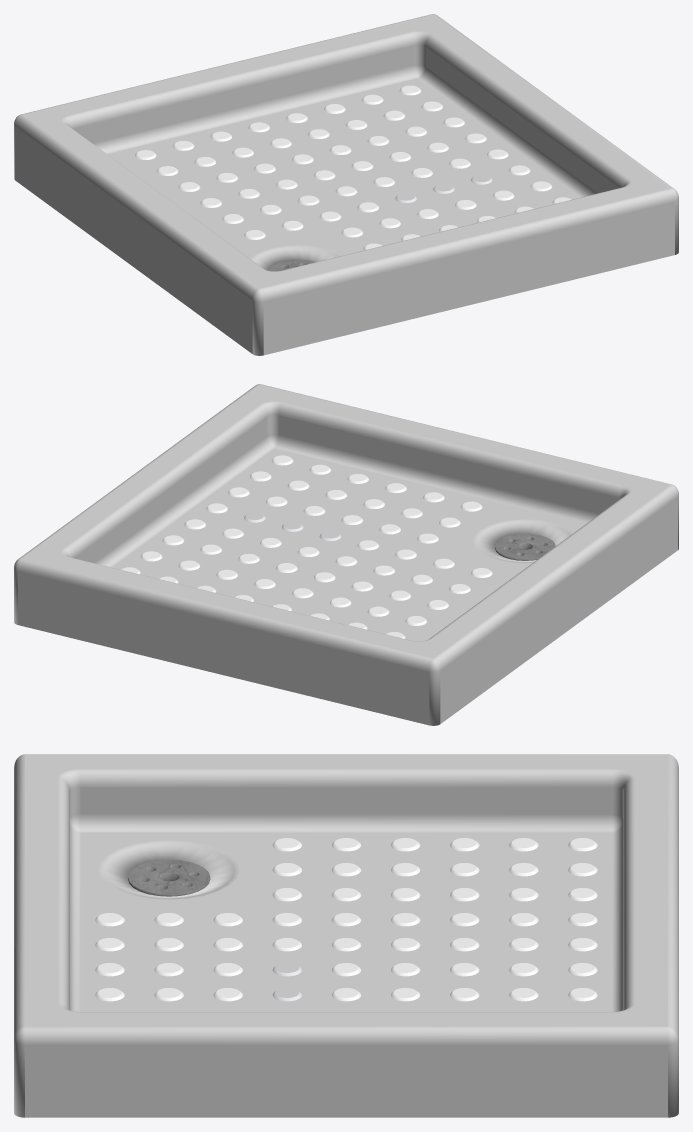
The model's file is Dush Korito 3.fbx.
3 renders of one model, top to bottom at view 1: azimuth 30°, elevation 25°; view 2: azimuth 150°, elevation 25°; view 3: azimuth 270°, elevation 25°, orthographic. The views are drawn at different scales.
Visible parts, largest first — view 1: G-No_Name_065, G-No_Name_098, G-No_Name_066, G-No_Name_080, G-No_Name_073, G-No_Name_087, G-No_Name_094, G-No_Name_105; view 2: G-No_Name_065, G-No_Name_065.001, G-No_Name_116, G-No_Name_073, G-No_Name_087, G-No_Name_105, G-No_Name_112, G-No_Name_066, G-No_Name_094; view 3: G-No_Name_065, G-No_Name_065.001, G-No_Name_080, G-No_Name_112, G-No_Name_098, G-No_Name_087, G-No_Name_094, G-No_Name_116, G-No_Name_066, G-No_Name_105, G-No_Name_073.
Part boxes in pixels (x1,y1,x2,y2): G-No_Name_065: [14, 14, 678, 355]; G-No_Name_098: [308, 110, 405, 138]; G-No_Name_066: [351, 142, 448, 170]; G-No_Name_080: [286, 94, 383, 123]; G-No_Name_073: [373, 158, 470, 186]; G-No_Name_087: [329, 126, 426, 154]; G-No_Name_094: [417, 190, 514, 218]; G-No_Name_105: [395, 174, 492, 202]; G-No_Name_065: [14, 384, 678, 725]; G-No_Name_065.001: [495, 533, 555, 560]; G-No_Name_116: [287, 480, 384, 508]; G-No_Name_073: [222, 528, 319, 556]; G-No_Name_087: [178, 560, 275, 588]; G-No_Name_105: [244, 512, 341, 540]; G-No_Name_112: [309, 464, 406, 493]; G-No_Name_066: [200, 544, 297, 572]; G-No_Name_094: [266, 496, 363, 524]; G-No_Name_065: [14, 754, 678, 1117]; G-No_Name_065.001: [128, 859, 210, 896]; G-No_Name_080: [568, 963, 597, 1001]; G-No_Name_112: [95, 963, 124, 1001]; G-No_Name_098: [509, 963, 538, 1001]; G-No_Name_087: [450, 963, 479, 1001]; G-No_Name_094: [213, 963, 242, 1001]; G-No_Name_116: [154, 963, 183, 1001]; G-No_Name_066: [391, 963, 420, 1001]; G-No_Name_105: [272, 963, 301, 1001]; G-No_Name_073: [332, 963, 360, 1001].
Bounding box in the file's own units: 90.44 × 15 × 90.44.
